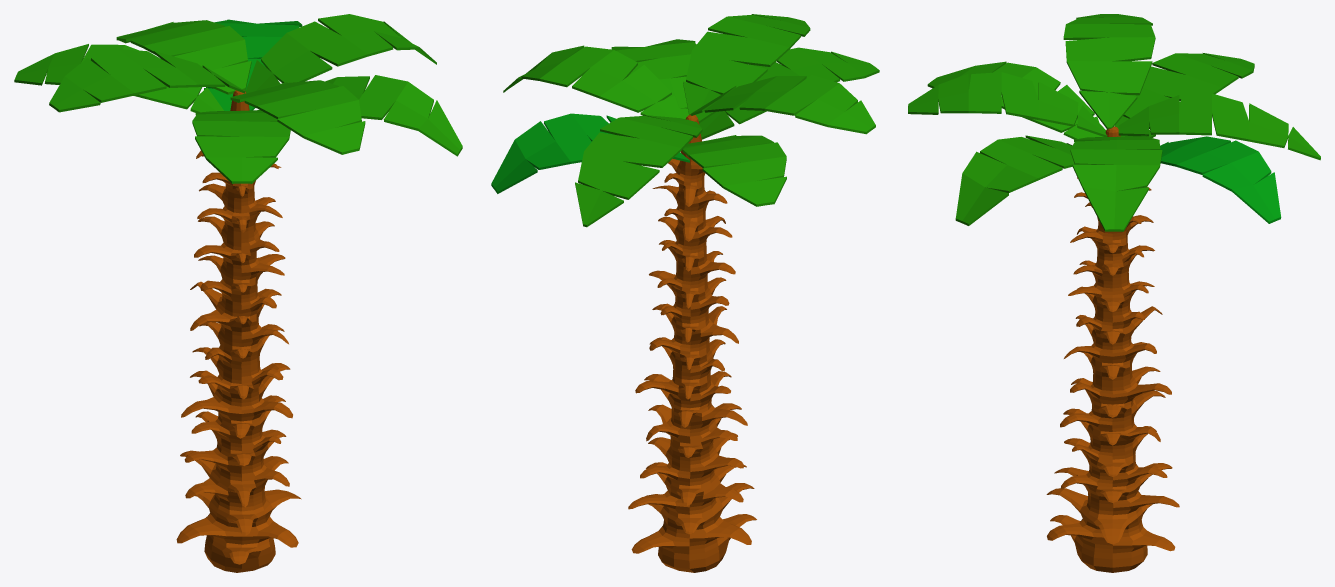
Rendered from Tree5 (Subdivision Olunca).fbx.
The picture shows the model from 3 angles, left to right: view 1: azimuth 30°, elevation 25°; view 2: azimuth 150°, elevation 25°; view 3: azimuth 270°, elevation 25°; orthographic projection. The views are drawn at different scales.
Visible parts, largest first — view 1: Tree, Leaf2, Leaf4, Leaf3, Leaf4.001, Leaf1, Leaf2.002, Leaf4.002, Leaf2.001; view 2: Tree, Leaf1, Leaf3, Leaf2, Leaf4, Leaf4.002, Leaf2.001, Leaf4.001, Leaf2.002; view 3: Tree, Leaf4, Leaf3, Leaf2, Leaf1, Leaf2.002, Leaf2.001, Leaf4.002, Leaf4.001.
Boxes of the visible parts, x1,y1,x2,y2 form: Tree: (176, 90, 301, 572); Leaf2: (245, 14, 436, 93); Leaf4: (49, 49, 244, 112); Leaf3: (230, 80, 365, 154); Leaf4.001: (192, 110, 290, 183); Leaf1: (116, 20, 251, 94); Leaf2.002: (325, 75, 462, 156); Leaf4.002: (14, 44, 223, 112); Leaf2.001: (204, 19, 302, 110); Tree: (628, 114, 756, 572); Leaf1: (575, 115, 702, 227); Leaf3: (683, 14, 810, 123); Leaf2: (503, 45, 682, 118); Leaf4: (690, 75, 875, 134); Leaf4.002: (682, 135, 786, 206); Leaf2.001: (491, 113, 689, 193); Leaf4.001: (699, 47, 879, 139); Leaf2.002: (611, 39, 696, 118); Tree: (1046, 126, 1179, 572); Leaf4: (1063, 14, 1155, 129); Leaf3: (908, 72, 1107, 136); Leaf2: (1070, 135, 1162, 231); Leaf1: (1118, 93, 1320, 160); Leaf2.002: (955, 135, 1074, 225); Leaf2.001: (1160, 136, 1281, 223); Leaf4.002: (1115, 53, 1254, 137); Leaf4.001: (927, 61, 1103, 139).
Bounding box in the file's own units: 1166 × 1528 × 1185.
